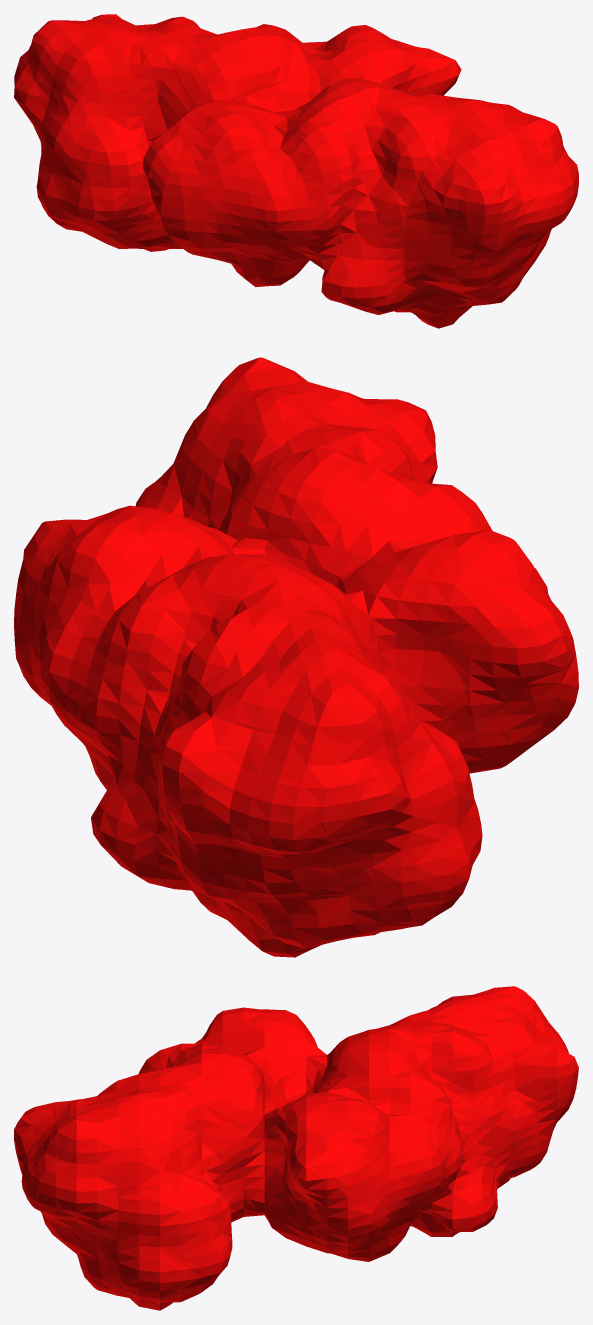
The model's file is Peptidyl_prolyl_cis_trans_isom_2_coarse.dae.
3 views of the same model, one above another, from view 1: azimuth 30°, elevation 25°; view 2: azimuth 150°, elevation 25°; view 3: azimuth 270°, elevation 25° (orthographic). The views are drawn at different scales.
Visible parts, largest first — view 1: Peptidyl_prolyl_cis_trans_isom_2; view 2: Peptidyl_prolyl_cis_trans_isom_2; view 3: Peptidyl_prolyl_cis_trans_isom_2.
Part boxes in pixels (x1,y1,x2,y2): Peptidyl_prolyl_cis_trans_isom_2: (14,14,578,328); Peptidyl_prolyl_cis_trans_isom_2: (14,357,578,957); Peptidyl_prolyl_cis_trans_isom_2: (14,986,578,1310).
Size of the model in its own units: 87.15 by 52.44 by 117.
